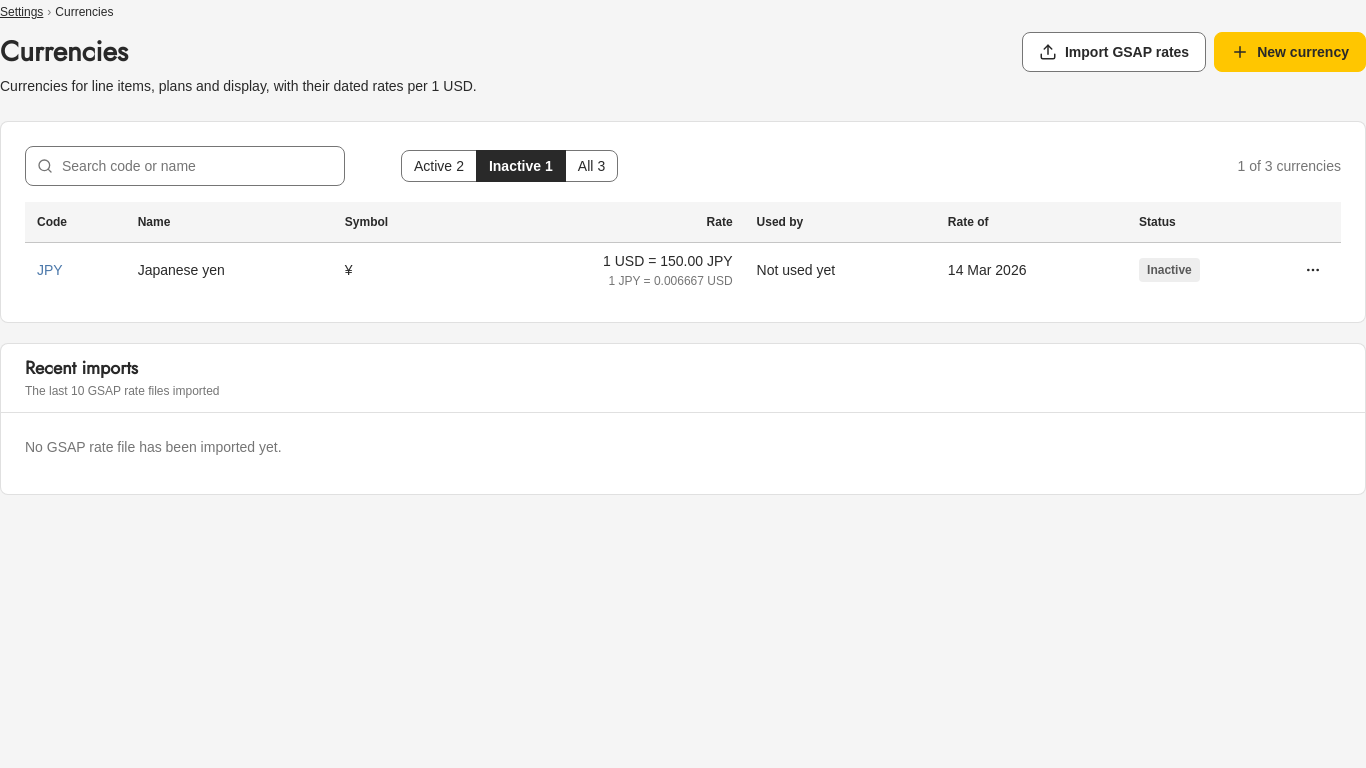
Scenario: CurrenciesPage: status and delete (US4 scenario 2, FR-004) › moves an unused currency to the recycle bin and offers Undo
This screenshot has width=1366, height=768.
Click the button named "Actions for JPY" at (1313, 270), box [1297,254,1329,286]
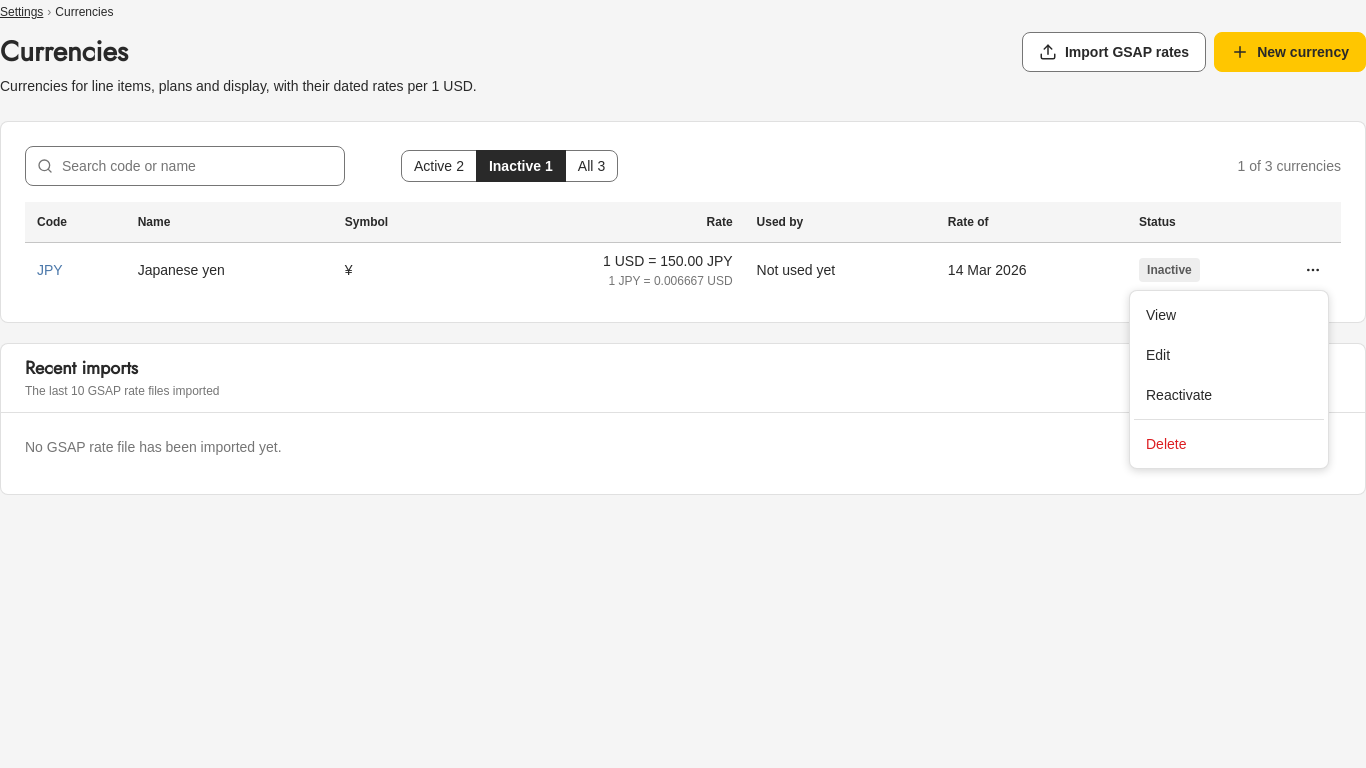
Click the menu item "Delete" at (1166, 444), box [1146,436,1186,452]
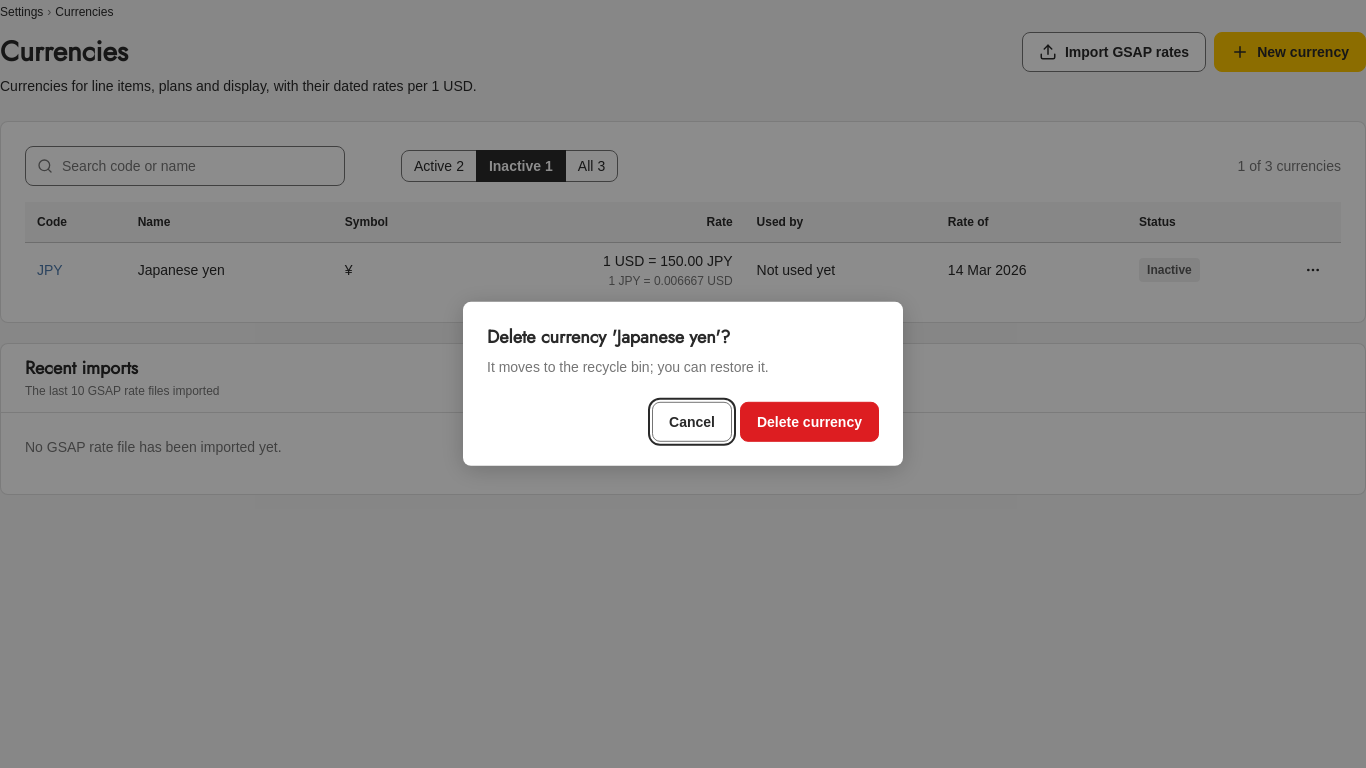
Click the button "Delete currency" at (809, 422), box [740,402,879,442]
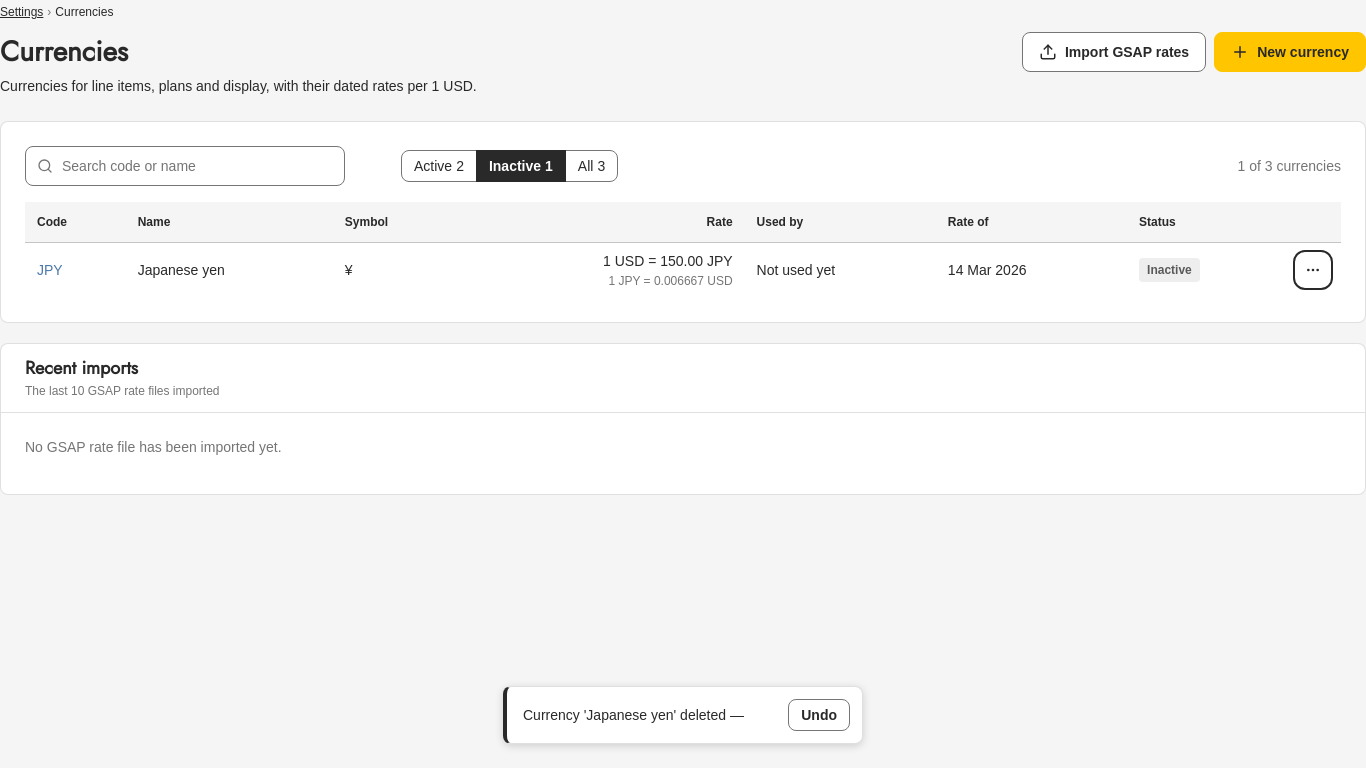
Now the button "Undo" is shown, box [788,699,850,731]
